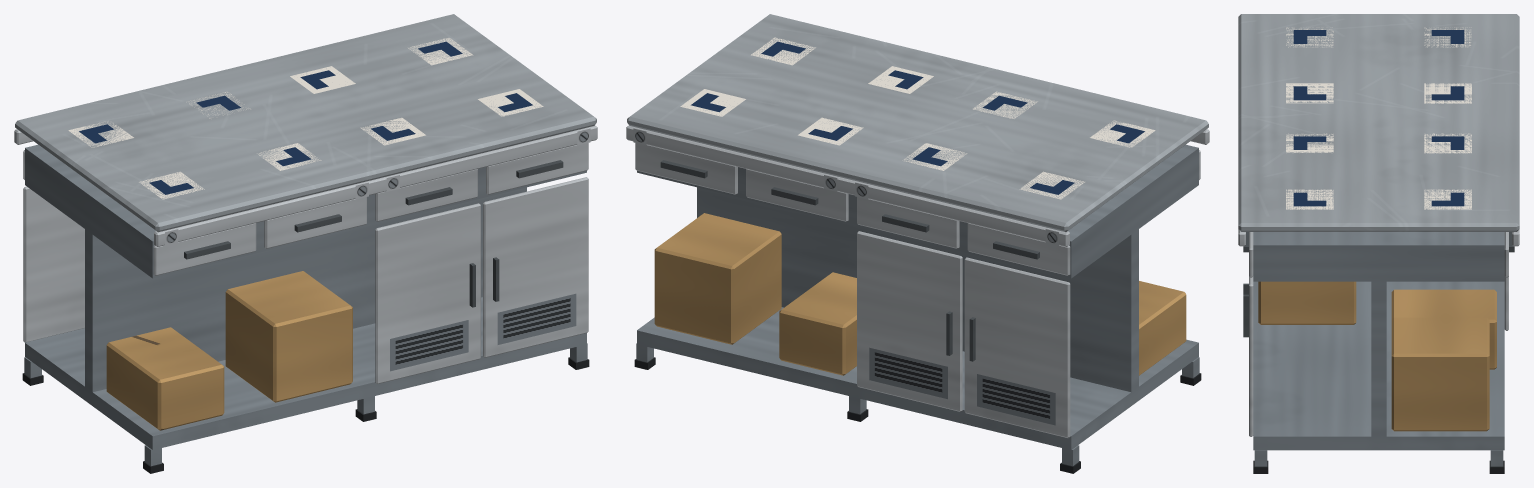
File: pass_2m.glb
3 views of the same model, side by side, from view 1: azimuth 30°, elevation 25°; view 2: azimuth 150°, elevation 25°; view 3: azimuth 270°, elevation 25° (orthographic).
Visible parts, largest first — view 1: pass_2m_body; view 2: pass_2m_body; view 3: pass_2m_body.
Part boxes in pixels (x1,y1,x2,y2): pass_2m_body: (14, 14, 597, 473); pass_2m_body: (626, 14, 1209, 473); pass_2m_body: (1238, 14, 1519, 473).
Size of the model in its own units: 1.99 by 1.1 by 1.12.
7 materials, 6 textured.
